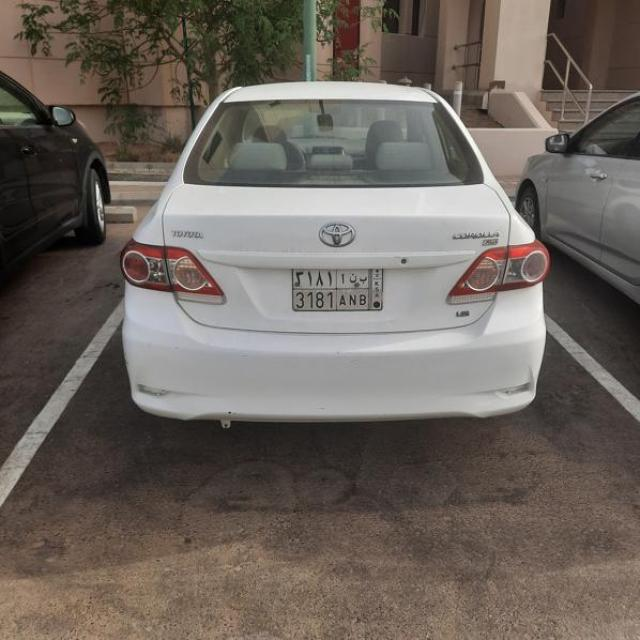license_plate: (292, 266, 385, 314)
